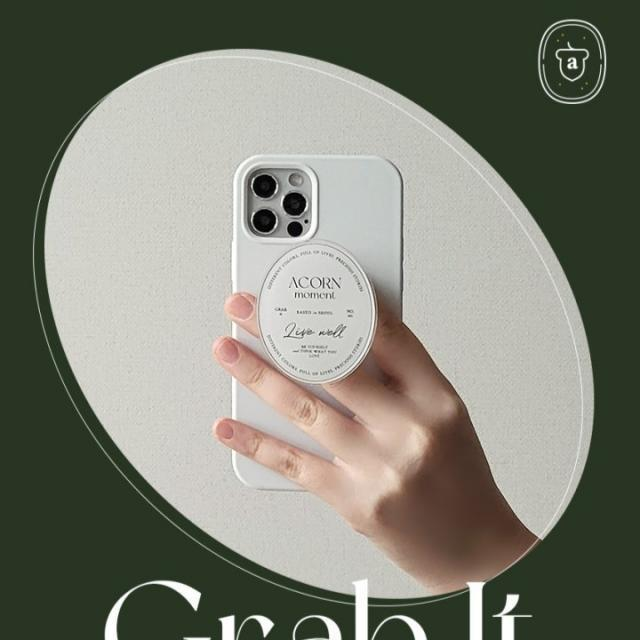phone: (232, 154, 404, 493)
